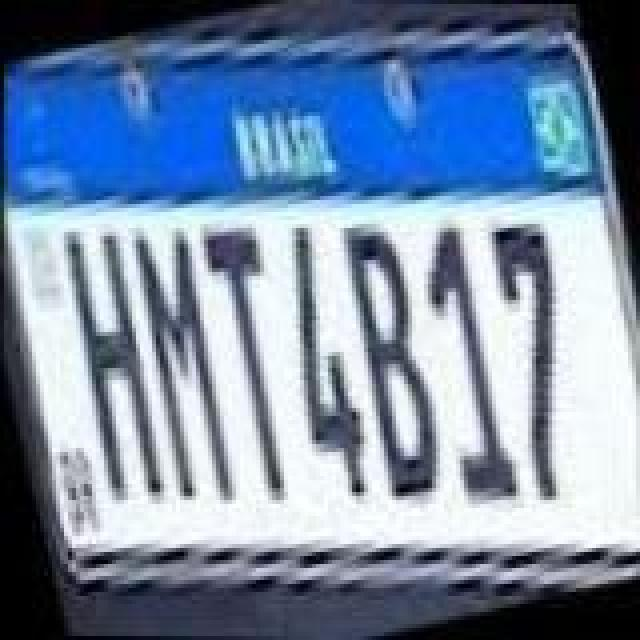1: (396, 214, 528, 510)
4: (256, 212, 388, 508)
7: (472, 212, 612, 508)
B: (324, 212, 464, 512)
H: (44, 214, 184, 514)
M: (114, 212, 258, 520)
T: (194, 210, 322, 506)
